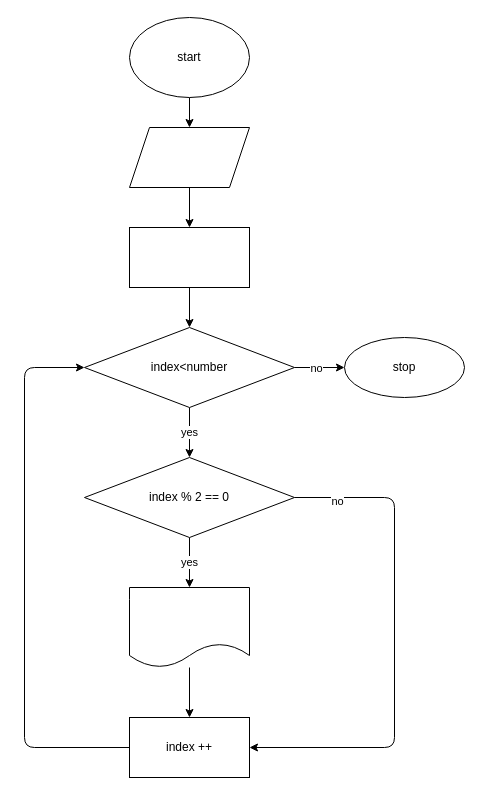
Some shapes in this 482 by 795 pixel diagram are drawn without their labels. The centre of each missing label's shape, as x and y in pixels:
"index" belongs at pixel 189 627.
"index = 1" belongs at pixel 189 257.
"number" belongs at pixel 189 157.
